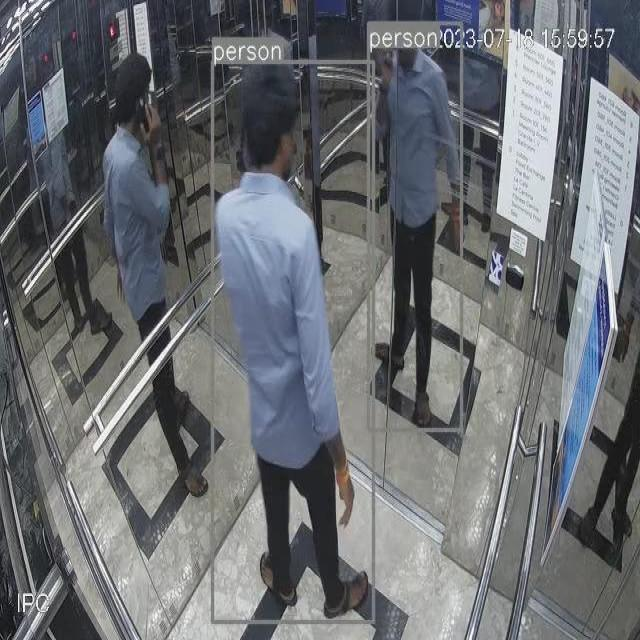person: (215, 65, 376, 620), (110, 59, 214, 509), (370, 43, 463, 433)
